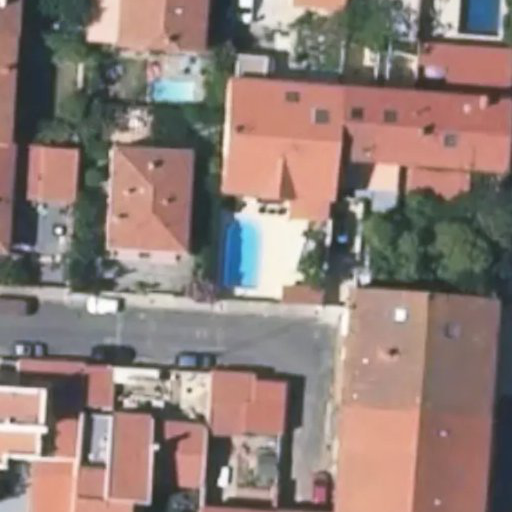pool: (224, 220, 260, 290), (455, 1, 503, 37), (151, 80, 195, 102)
